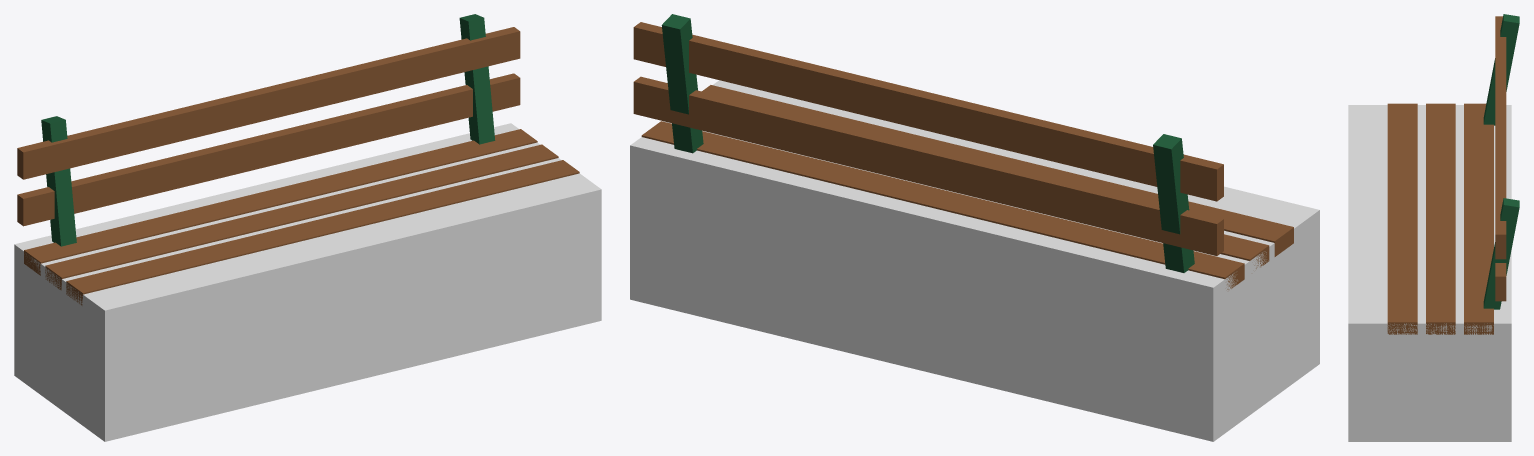
File: banca_parque.glb
The picture shows the model from 3 angles, left to right: view 1: azimuth 30°, elevation 25°; view 2: azimuth 150°, elevation 25°; view 3: azimuth 270°, elevation 25°; orthographic projection. The views are drawn at different scales.
Parts seen in each view (by area): view 1: COL_0, banca_parque_Malla; view 2: COL_0, banca_parque_Malla; view 3: COL_0, banca_parque_Malla.
Part boxes in pixels (x1,y1,x2,y2): COL_0: [14, 123, 601, 441]; banca_parque_Malla: [17, 14, 579, 305]; COL_0: [630, 80, 1319, 441]; banca_parque_Malla: [633, 14, 1293, 289]; COL_0: [1348, 105, 1511, 441]; banca_parque_Malla: [1387, 14, 1519, 334].
Size of the model in its own units: 1.9 by 0.9051 by 0.6296.
